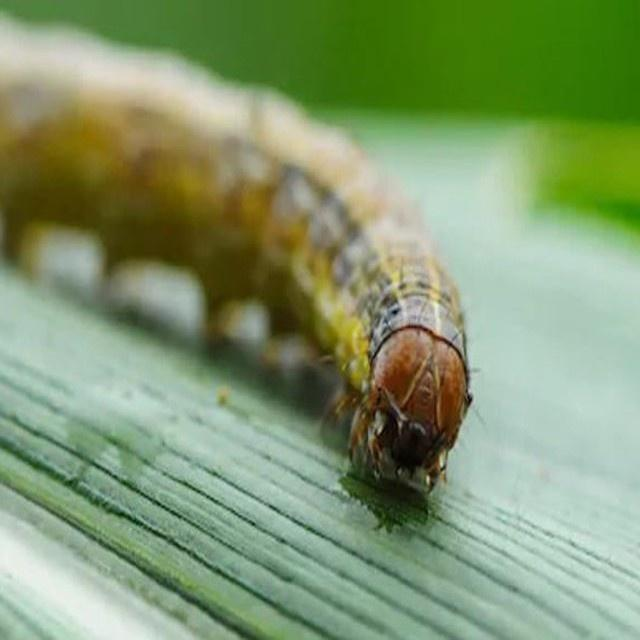Plaga: (1, 17, 479, 503)
